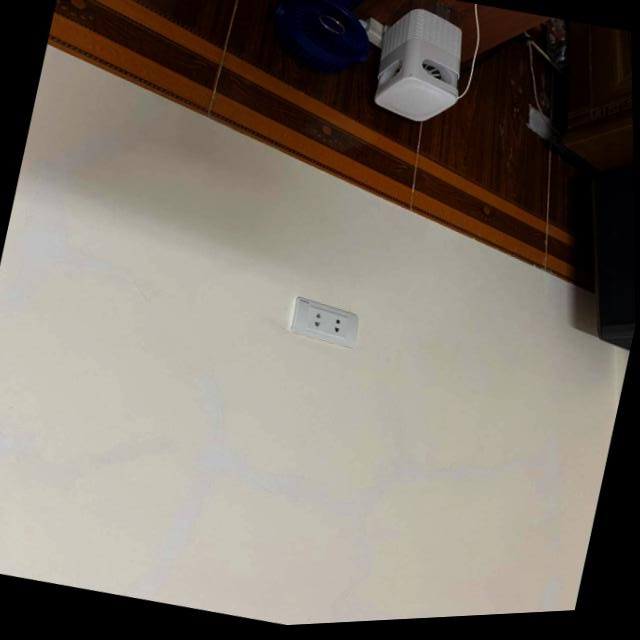outlet: (286, 293, 363, 353)
